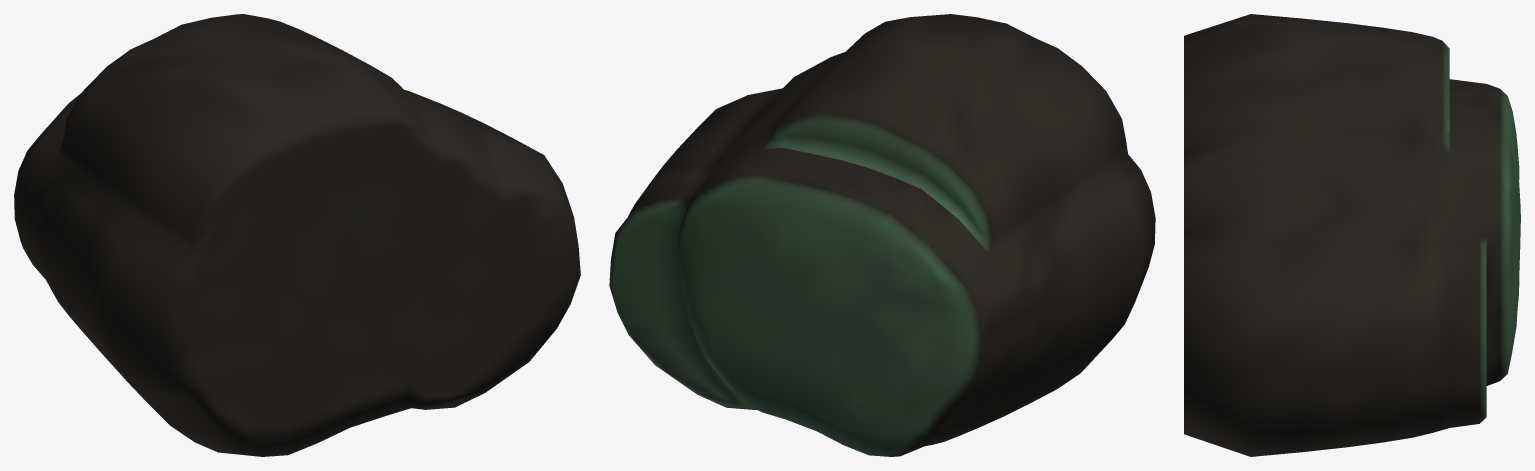
The model's file is GreenHillHuge.002.glb.
3 renders of one model, left to right at view 1: azimuth 30°, elevation 25°; view 2: azimuth 150°, elevation 25°; view 3: azimuth 270°, elevation 25°, orthographic. The views are drawn at different scales.
Visible parts, largest first — view 1: GreenHillHuge.002; view 2: GreenHillHuge.002; view 3: GreenHillHuge.002.
Part boxes in pixels (<box>): GreenHillHuge.002: <box>14,14,580,456</box>; GreenHillHuge.002: <box>609,14,1155,456</box>; GreenHillHuge.002: <box>1184,14,1520,456</box>.
Bounding box in the file's own units: 3779 × 2859 × 2457.
